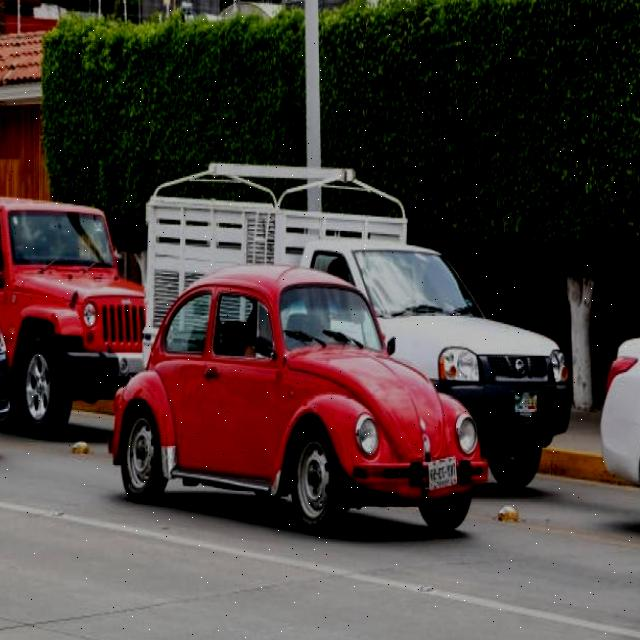car: (150, 242, 580, 471), (106, 267, 492, 514), (0, 210, 144, 422)
